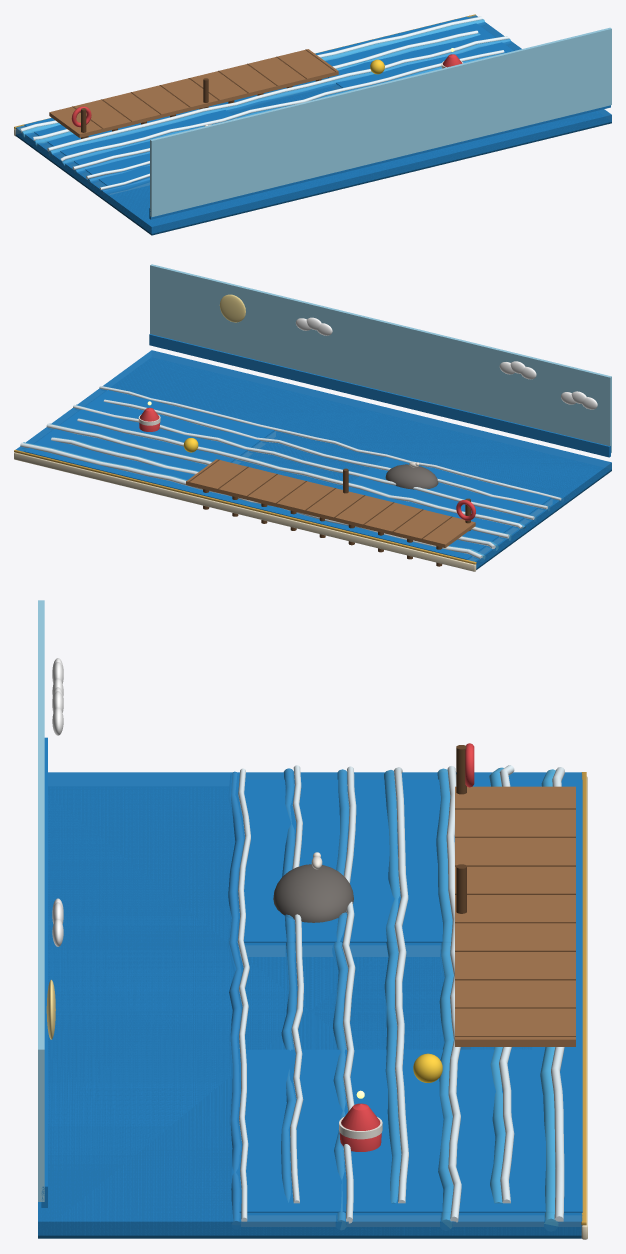
Rendered from Floor_Ocean.fbx.
3 views of the same model, one above another, from view 1: azimuth 30°, elevation 25°; view 2: azimuth 150°, elevation 25°; view 3: azimuth 270°, elevation 25° (orthographic). The views are drawn at different scales.
Visible parts, largest first — view 1: Shell, Wave2, Wave3, Wave0, Wave1, Wave4, Wave6, Wave5; view 2: Shell, Wave3, Wave4, Wave6, Wave5, Wave0, Wave2, Wave1, Glow; view 3: Shell, Wave3, Wave2, Wave6, Wave4, Wave5, Wave0, Wave1.
Boxes of the visible parts, x1,y1,x2,y2 form: Shell: (14,14,611,235); Wave2: (47,36,510,156); Wave3: (60,50,504,165); Wave0: (20,16,484,137); Wave1: (33,30,480,146); Wave4: (72,148,149,174); Wave6: (99,173,149,194); Wave5: (86,161,149,183); Shell: (14,264,611,571); Wave3: (77,418,525,530); Wave4: (73,404,536,521); Wave6: (99,386,563,502); Wave5: (103,399,550,511); Wave0: (20,442,485,560); Wave2: (46,423,511,540); Wave1: (51,437,498,550); Glow: (147,294,245,405); Shell: (38,600,587,1239); Wave3: (384,767,408,1203); Wave2: (436,766,461,1230); Wave6: (228,768,250,1228); Wave4: (333,766,356,1230); Wave5: (281,765,303,1203); Wave0: (540,767,564,1230); Wave1: (489,765,514,1203).
Size of the model in its own units: 15.87 by 3.35 by 8.18.
